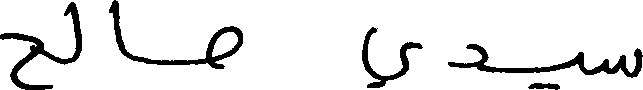ا: (112, 0, 124, 56)
ح: (0, 31, 42, 88)
د: (447, 42, 485, 72)
س: (604, 45, 642, 78)
ص: (205, 23, 239, 68)
ل: (71, 0, 81, 63)
ي: (361, 24, 422, 87), (527, 49, 584, 87)
